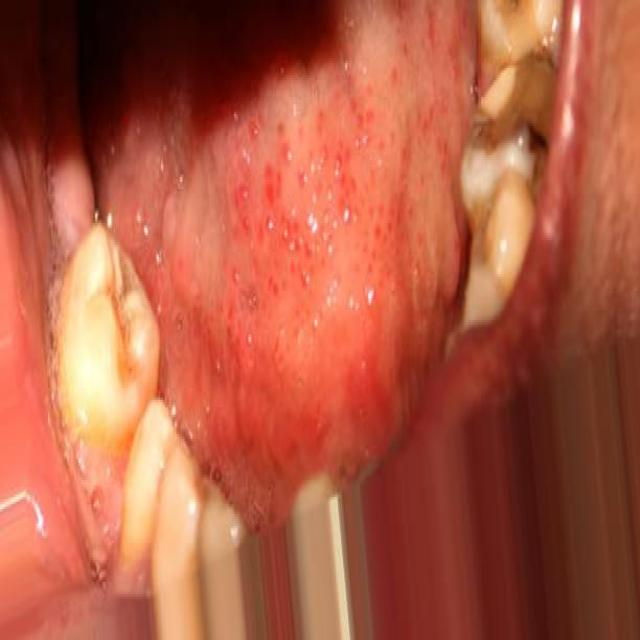caries: (478, 0, 576, 178), (84, 225, 150, 402), (464, 180, 540, 282)
